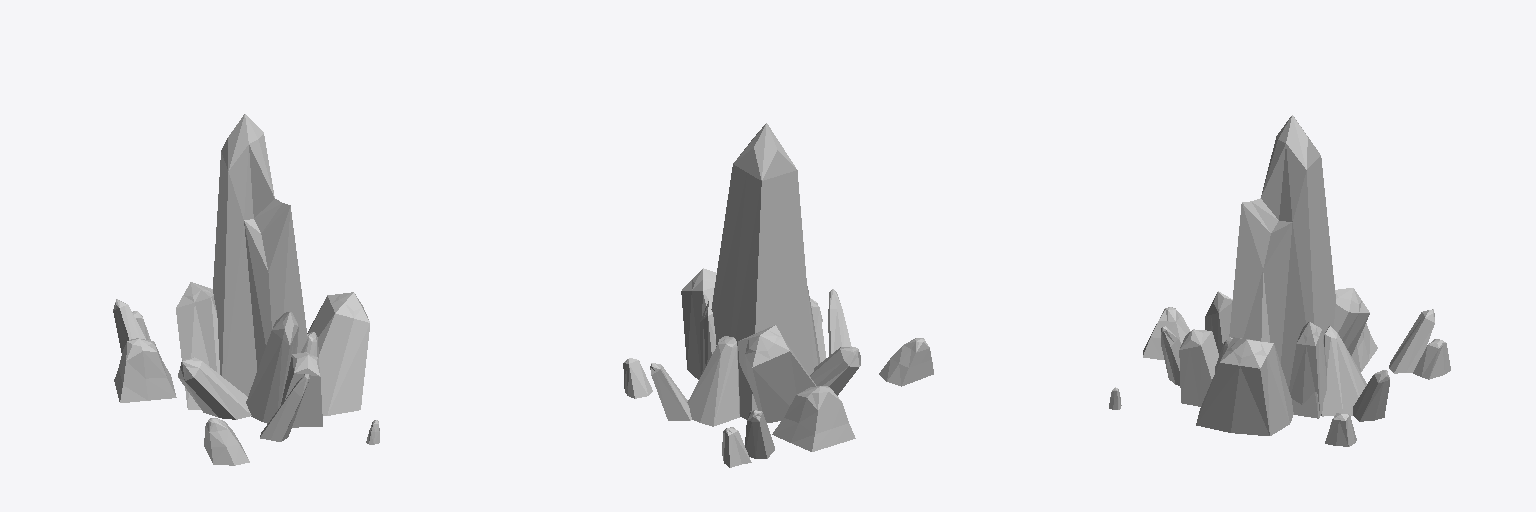
The model's file is sholazar_geode_crys_2.obj.
The picture shows the model from 3 angles: view 1: azimuth 30°, elevation 25°; view 2: azimuth 150°, elevation 25°; view 3: azimuth 270°, elevation 25°; orthographic projection.
Visible parts, largest first — view 1: sholazar_geode_crys_2; view 2: sholazar_geode_crys_2; view 3: sholazar_geode_crys_2.
Boxes of the visible parts, <box> form: sholazar_geode_crys_2: <box>113,114,379,465</box>; sholazar_geode_crys_2: <box>623,123,933,467</box>; sholazar_geode_crys_2: <box>1109,115,1450,446</box>.
Size of the model in its own units: 15.64 by 18.57 by 20.7.